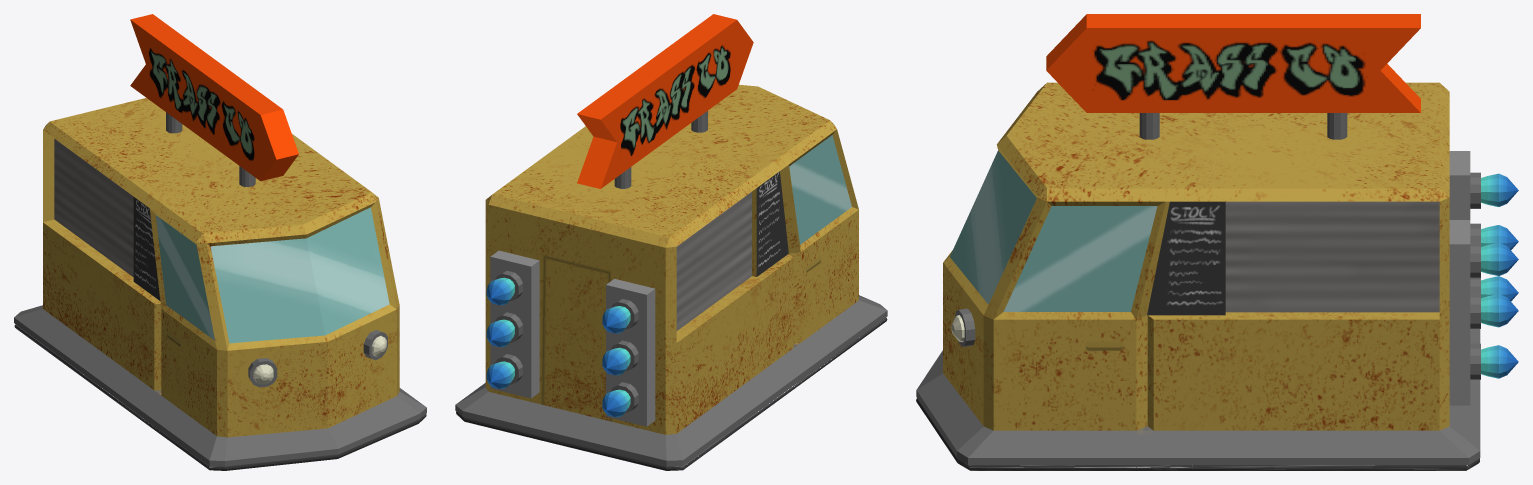
File: AsteroidTraderShipCombined.glb
3 views of the same model, side by side, from view 1: azimuth 30°, elevation 25°; view 2: azimuth 150°, elevation 25°; view 3: azimuth 270°, elevation 25° (orthographic). The views are drawn at different scales.
Parts seen in each view (by area): view 1: TraderShip_ObjectMain; view 2: TraderShip_ObjectMain, ThrusterFlames_ObjectBack; view 3: TraderShip_ObjectMain, ThrusterFlames_ObjectBack.
Boxes of the visible parts, box(x1,y1,x2,y2) form: TraderShip_ObjectMain: box(14, 14, 426, 470); TraderShip_ObjectMain: box(455, 14, 887, 470); ThrusterFlames_ObjectBack: box(486, 277, 630, 417); TraderShip_ObjectMain: box(916, 14, 1480, 470); ThrusterFlames_ObjectBack: box(1481, 173, 1518, 378).
Bounding box in the file's own units: 2.39 × 3.31 × 4.46.
1 material, 1 textured.
